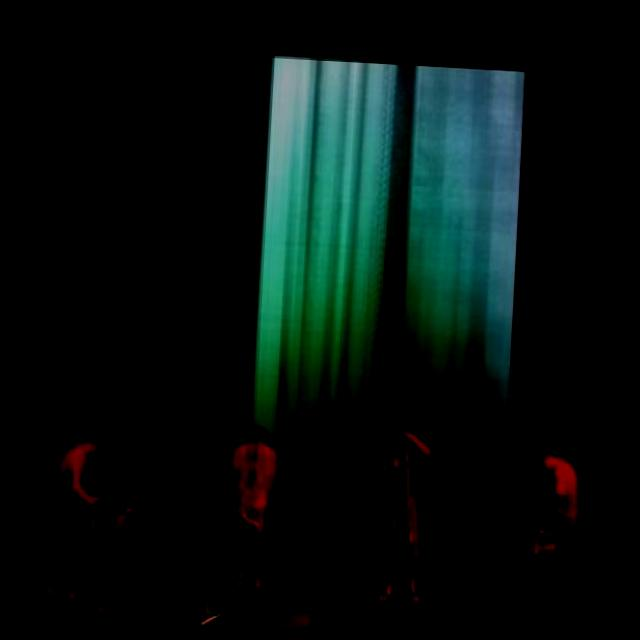Person: (371, 403, 438, 620), (36, 420, 101, 608), (223, 423, 286, 600), (530, 443, 590, 557)
